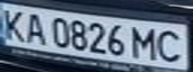0: (45, 15, 72, 48)
2: (87, 19, 109, 55)
6: (106, 21, 130, 57)
8: (66, 17, 90, 52)
A: (21, 10, 48, 45)
C: (151, 27, 187, 64)
K: (0, 6, 30, 42)
M: (127, 24, 163, 61)
